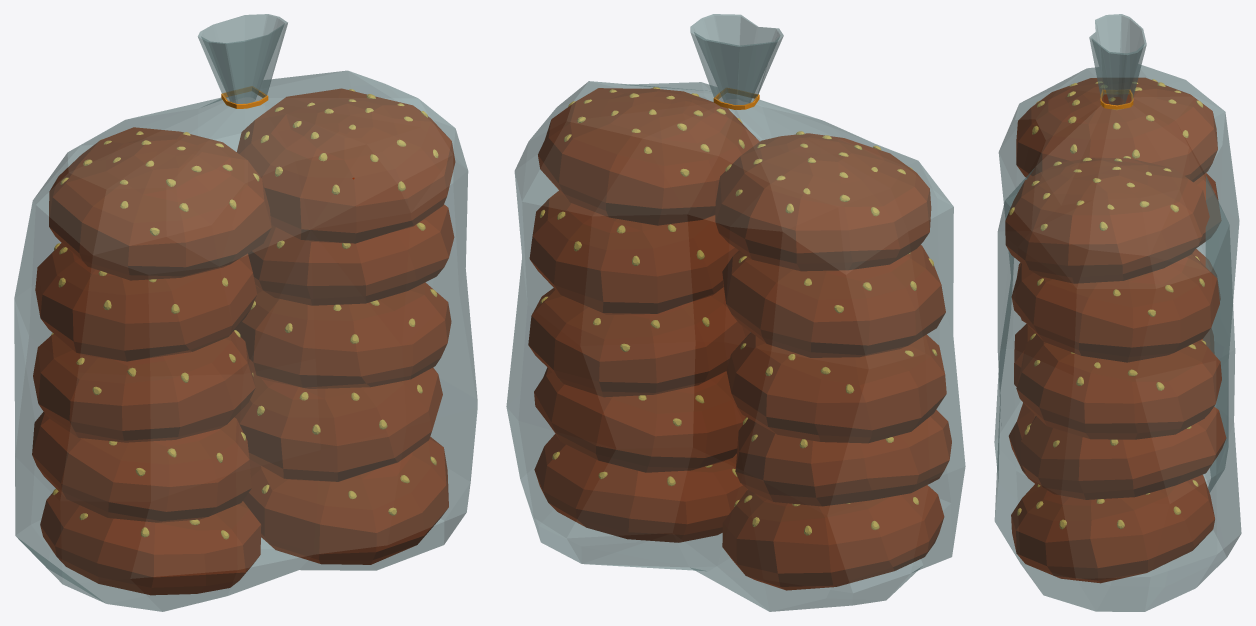
The model's file is bread_bunch.fbx.
3 views of the same model, side by side, from view 1: azimuth 30°, elevation 25°; view 2: azimuth 150°, elevation 25°; view 3: azimuth 270°, elevation 25° (orthographic). The views are drawn at different scales.
Parts seen in each view (by area): view 1: Box001, Cylinder029, Cylinder039, Cylinder025, Cylinder027, Cylinder035, Cylinder023, Cylinder031, Cylinder033, Cylinder021, Cylinder037, Cylinder040 (+1 smaller); view 2: Box001, Cylinder029, Cylinder039, Cylinder027, Cylinder025, Cylinder037, Cylinder021, Cylinder035, Cylinder033, Cylinder031, Cylinder023, Cylinder030 (+1 smaller); view 3: Box001, Cylinder039, Cylinder035, Cylinder031, Cylinder037, Cylinder029, Cylinder033, Cylinder027, Cylinder023, Cylinder021, Cylinder030, Cylinder040.
Part boxes in pixels (left/top/right/bottom): Box001: left=14, top=14, right=477, bottom=611; Cylinder029: left=49, top=127, right=271, bottom=280; Cylinder039: left=237, top=88, right=455, bottom=243; Cylinder025: left=33, top=331, right=255, bottom=442; Cylinder027: left=35, top=243, right=256, bottom=361; Cylinder035: left=235, top=282, right=451, bottom=388; Cylinder023: left=32, top=412, right=251, bottom=522; Cylinder031: left=243, top=437, right=448, bottom=564; Cylinder033: left=235, top=367, right=442, bottom=481; Cylinder021: left=40, top=491, right=261, bottom=595; Cylinder037: left=248, top=204, right=454, bottom=305; Cylinder040: left=244, top=89, right=438, bottom=194; Box001: left=506, top=14, right=965, bottom=611; Cylinder029: left=715, top=133, right=931, bottom=271; Cylinder039: left=538, top=88, right=759, bottom=225; Cylinder027: left=722, top=245, right=945, bottom=357; Cylinder025: left=726, top=332, right=946, bottom=443; Cylinder037: left=529, top=190, right=738, bottom=314; Cylinder021: left=722, top=485, right=944, bottom=590; Cylinder035: left=528, top=287, right=749, bottom=397; Cylinder033: left=534, top=367, right=746, bottom=472; Cylinder031: left=534, top=434, right=747, bottom=542; Cylinder023: left=735, top=410, right=951, bottom=506; Cylinder030: left=725, top=131, right=912, bottom=215; Box001: left=994, top=14, right=1241, bottom=611; Cylinder039: left=1005, top=157, right=1209, bottom=283; Cylinder035: left=1016, top=334, right=1221, bottom=439; Cylinder031: left=1011, top=475, right=1214, bottom=583; Cylinder037: left=1011, top=254, right=1219, bottom=362; Cylinder029: left=1016, top=77, right=1217, bottom=181; Cylinder033: left=1021, top=407, right=1226, bottom=499; Cylinder027: left=1193, top=173, right=1220, bottom=247; Cylinder023: left=1014, top=324, right=1213, bottom=386; Cylinder021: left=1009, top=403, right=1036, bottom=483; Cylinder030: left=1032, top=79, right=1202, bottom=158; Cylinder040: left=1009, top=156, right=1178, bottom=230.
Bounding box in the file's own units: 6.02 × 7.52 × 3.33.
